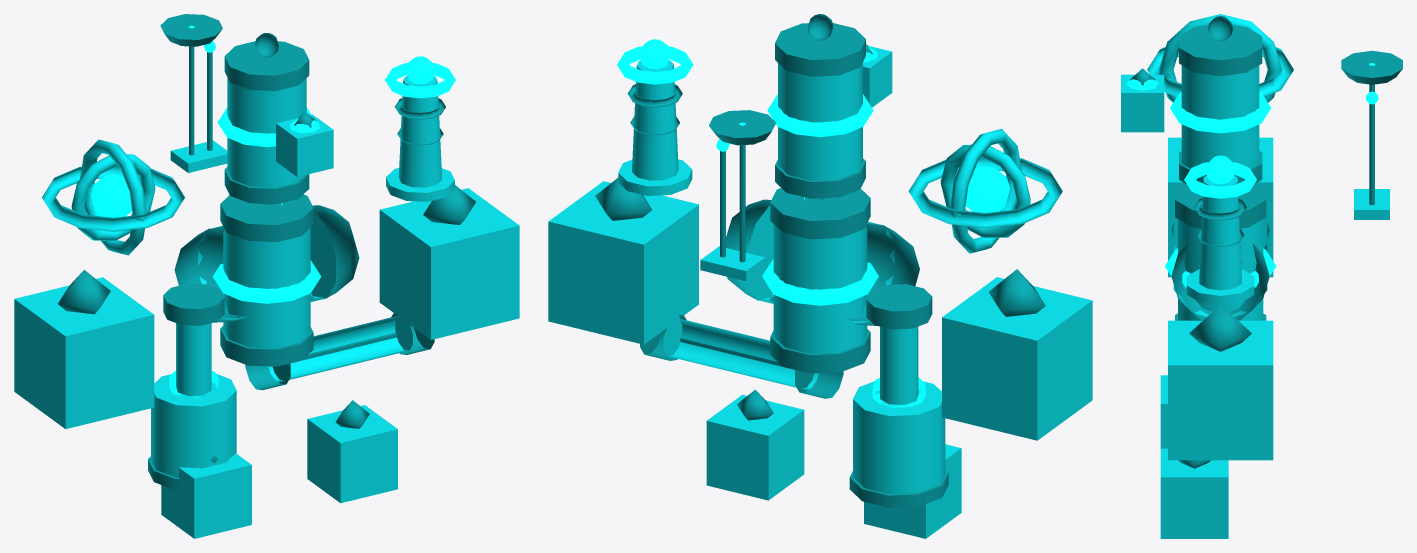
Rendered from golem_124.glb.
3 renders of one model, left to right at view 1: azimuth 30°, elevation 25°; view 2: azimuth 150°, elevation 25°; view 3: azimuth 270°, elevation 25°, orthographic. The views are drawn at different scales.
Visible parts, largest first — view 1: Body, Detail, Glow; view 2: Body, Detail, Glow; view 3: Body, Detail, Glow.
Part boxes in pixels (left/top/right/bottom): Body: left=14, top=75, right=519, bottom=538; Detail: left=58, top=14, right=475, bottom=490; Glow: left=91, top=25, right=455, bottom=398; Body: left=548, top=45, right=1092, bottom=538; Detail: left=595, top=14, right=1045, bottom=507; Glow: left=617, top=39, right=1009, bottom=407; Body: left=1121, top=14, right=1389, bottom=538; Detail: left=1130, top=16, right=1402, bottom=468; Glow: left=1126, top=63, right=1378, bottom=287.
Bounding box in the file's own units: 1.44 × 1.39 × 0.7554.
